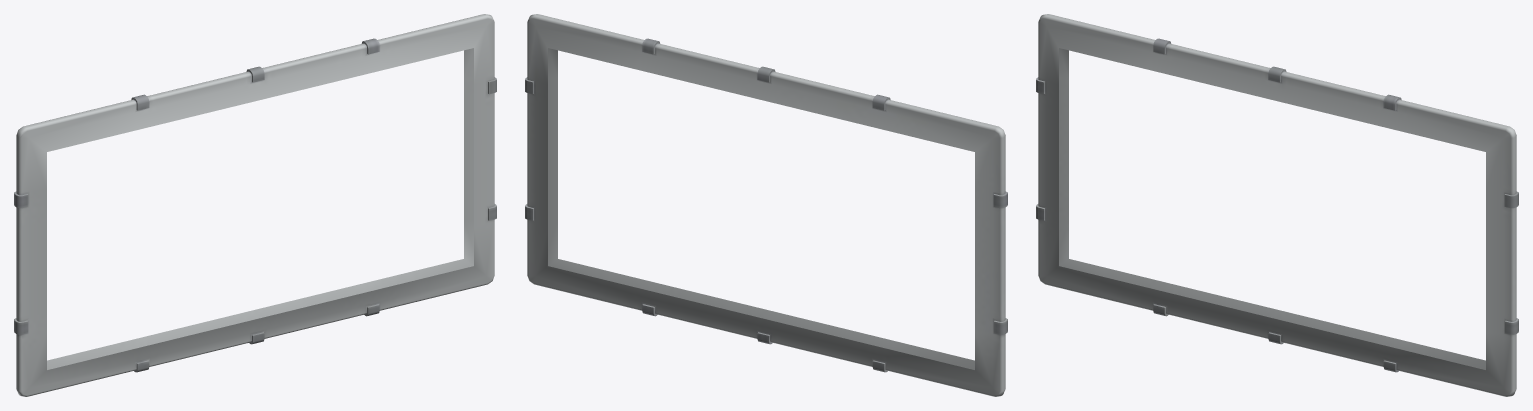
File: flange_thin.gltf
3 views of the same model, side by side, from view 1: azimuth 30°, elevation 25°; view 2: azimuth 150°, elevation 25°; view 3: azimuth 330°, elevation 25° (orthographic).
Visible parts, largest first — view 1: flange_thin; view 2: flange_thin; view 3: flange_thin.
Boxes of the visible parts, box(x1,y1,x2,y2) form: flange_thin: box(14, 14, 496, 396); flange_thin: box(525, 14, 1007, 396); flange_thin: box(1036, 14, 1518, 396).
Size of the model in its own units: 0.8233 by 0.448 by 0.0295.
Materials: 1 (1 with a texture image).
